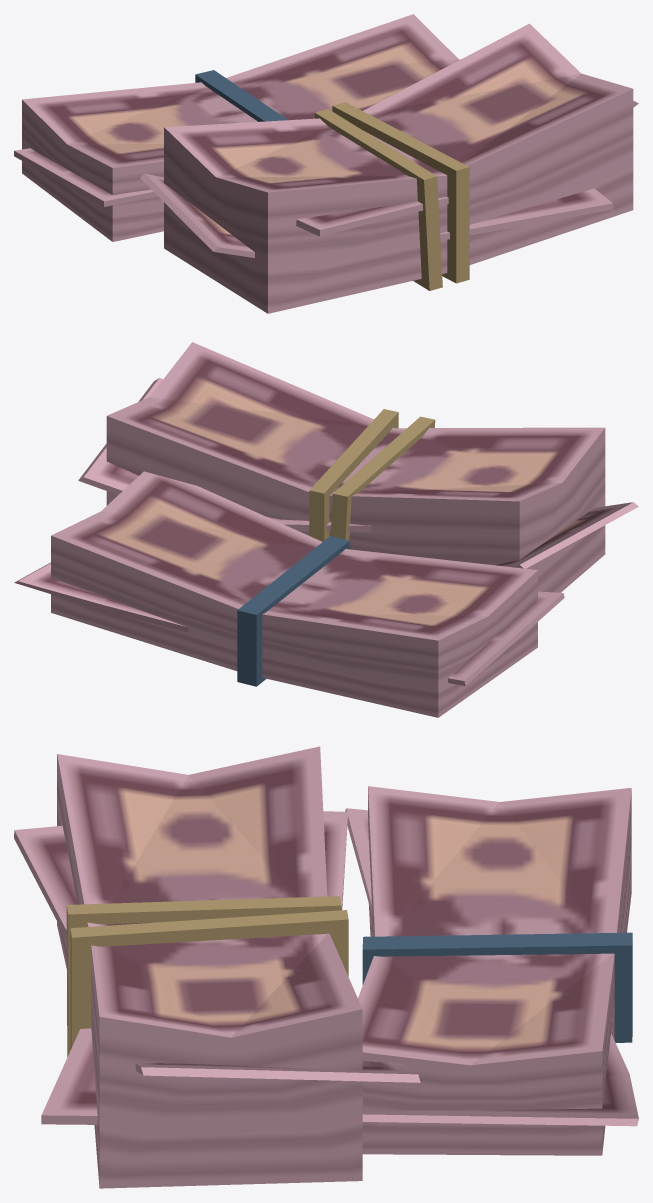
The model's file is SM_Prop_Money_Stack_02.glb.
3 views of the same model, one above another, from view 1: azimuth 30°, elevation 25°; view 2: azimuth 150°, elevation 25°; view 3: azimuth 270°, elevation 25° (orthographic). The views are drawn at different scales.
Visible parts, largest first — view 1: SM_Prop_Money_Stack_02; view 2: SM_Prop_Money_Stack_02; view 3: SM_Prop_Money_Stack_02.
Boxes of the visible parts, x1,y1,x2,y2 form: SM_Prop_Money_Stack_02: (14,14,638,313); SM_Prop_Money_Stack_02: (14,342,638,717); SM_Prop_Money_Stack_02: (14,746,638,1188).
Bounding box in the file's own units: 0.3328 × 0.097 × 0.2742.
Materials: 1 (1 with a texture image).
